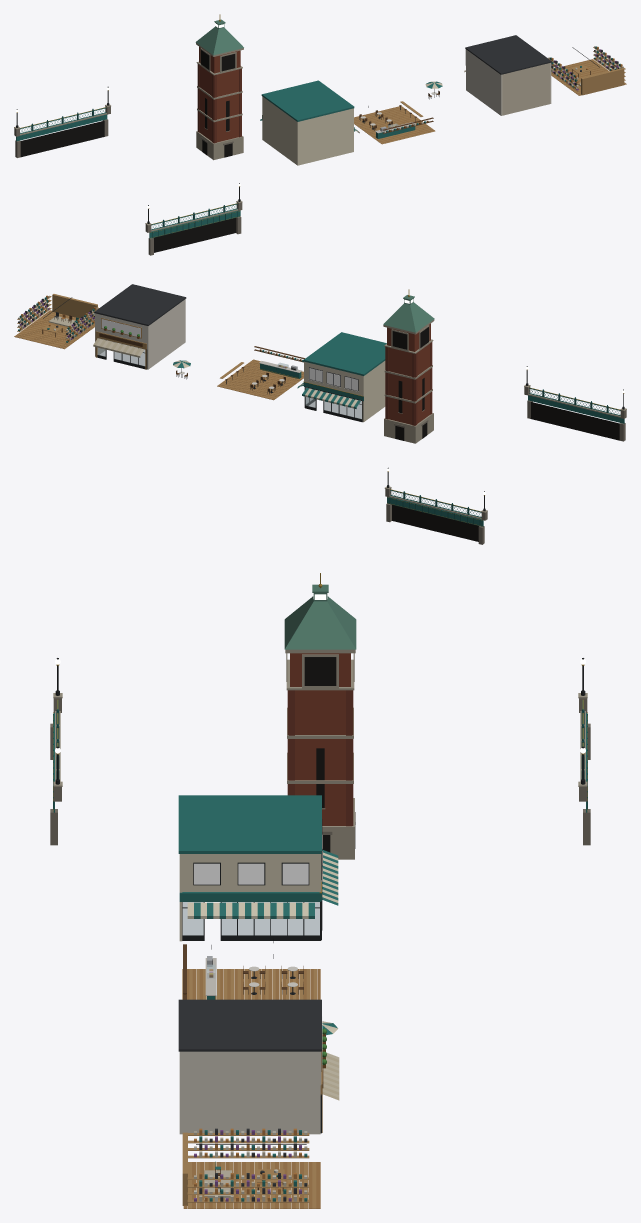
File: horie.glb
The picture shows the model from 3 angles, top to bottom: view 1: azimuth 30°, elevation 25°; view 2: azimuth 150°, elevation 25°; view 3: azimuth 270°, elevation 25°; orthographic projection. The views are drawn at different scales.
Parts seen in each view (by area): view 1: horie_cafe_body, horie_tower_body, horie_bridge_body, horie_zakka_body, horie_zakka_in_body, horie_cafe_in_body; view 2: horie_tower_body, horie_bridge_body, horie_zakka_body, horie_cafe_body, horie_zakka_in_body, horie_cafe_in_body; view 3: horie_cafe_body, horie_zakka_body, horie_tower_body, horie_zakka_in_body, horie_cafe_in_body, horie_bridge_body.
Boxes of the visible parts, x1,y1,x2,y2 form: horie_cafe_body: (260,80,359,165); horie_tower_body: (195,14,243,160); horie_bridge_body: (14,86,242,255); horie_zakka_body: (464,35,551,115); horie_zakka_in_body: (548,46,626,95); horie_cafe_in_body: (354,101,435,144); horie_tower_body: (383,289,434,443); horie_bridge_body: (384,366,626,544); horie_zakka_body: (93,284,186,369); horie_cafe_body: (297,332,386,422); horie_zakka_in_body: (14,294,98,349); horie_cafe_in_body: (217,346,304,400); horie_cafe_body: (178,795,338,941); horie_zakka_body: (178,999,339,1134); horie_tower_body: (284,573,356,859); horie_zakka_in_body: (182,1128,320,1208); horie_cafe_in_body: (182,938,320,999); horie_bridge_body: (50,658,590,845).
Size of the model in its own units: 85.54 by 25.3 by 39.1.
